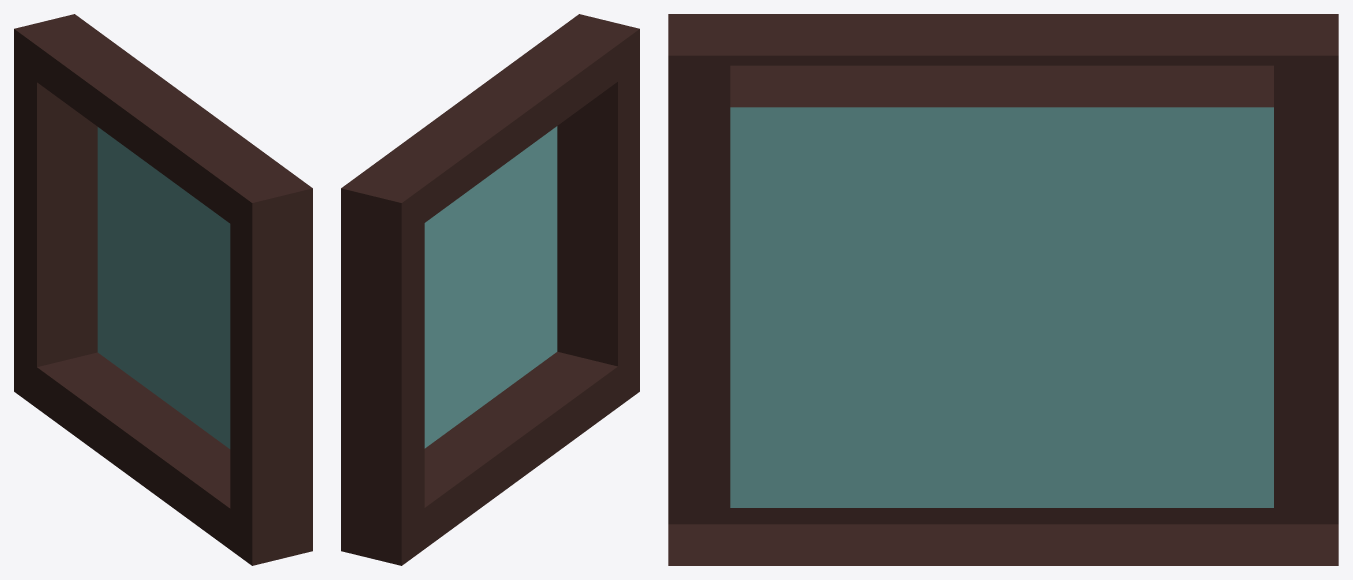
File: A3D_Fenetre_02_.fbx
The picture shows the model from 3 angles, left to right: view 1: azimuth 30°, elevation 25°; view 2: azimuth 150°, elevation 25°; view 3: azimuth 270°, elevation 25°; orthographic projection. The views are drawn at different scales.
Visible parts, largest first — view 1: pCube207; view 2: pCube207; view 3: pCube207.
Part boxes in pixels (x1,y1,x2,y2): pCube207: (14,14,312,565); pCube207: (341,14,639,565); pCube207: (668,14,1338,565).
Bounding box in the file's own units: 6.73 × 38.42 × 45.72.
